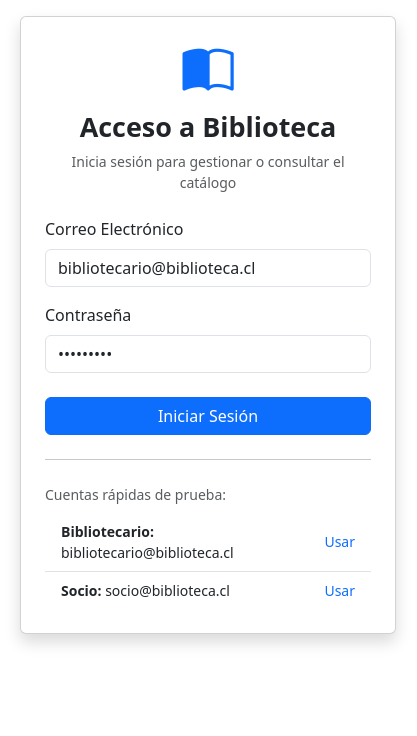
LoginPage › muestra alerta de error ante credenciales inválidas
Click the button "Iniciar Sesión". click: click(208, 416)
box: [45, 397, 371, 435]
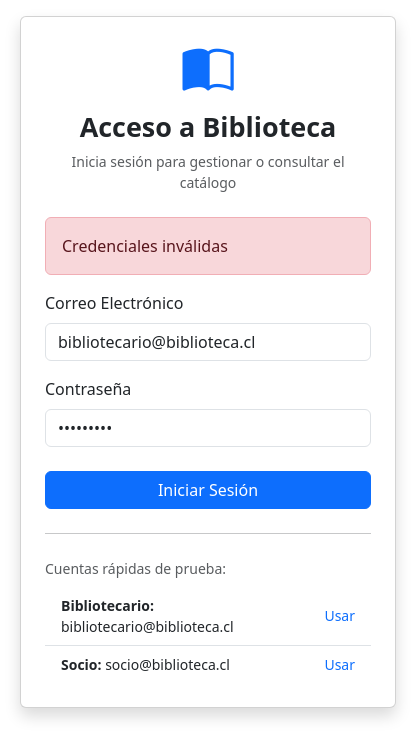
Result: the text "Credenciales inválidas" is shown at [45, 217, 371, 275]
